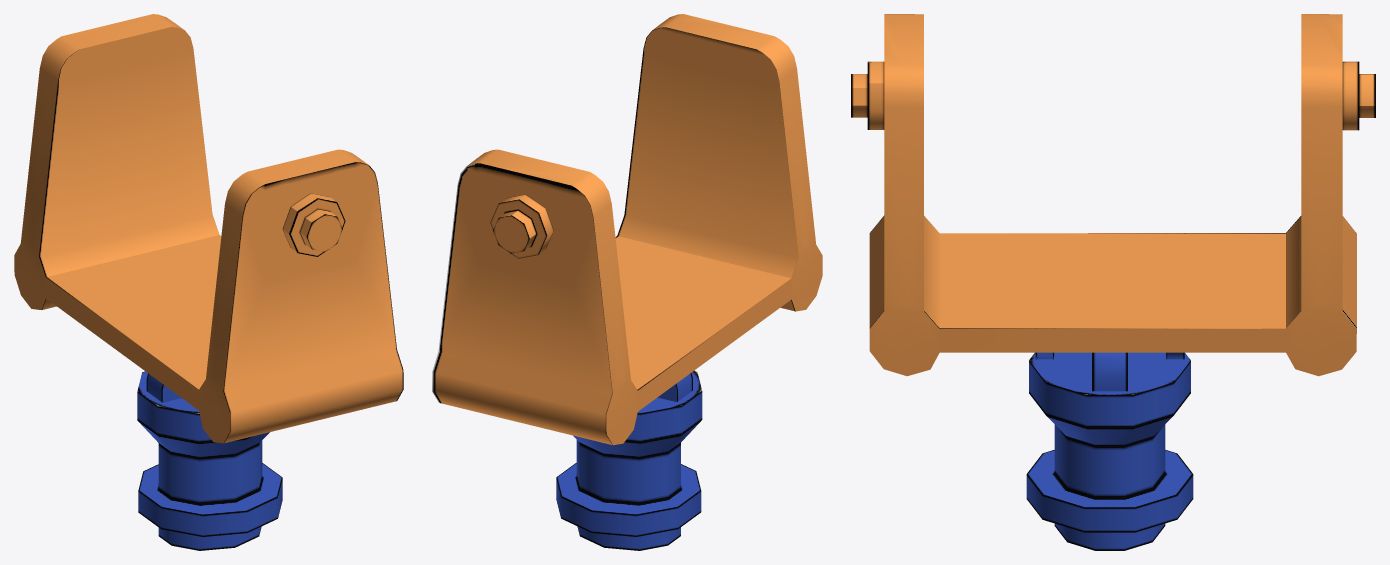
Rendered from FERNMinigunHolderPivot.fbx.
The picture shows the model from 3 angles, left to right: view 1: azimuth 30°, elevation 25°; view 2: azimuth 150°, elevation 25°; view 3: azimuth 270°, elevation 25°; orthographic projection. The views are drawn at different scales.
Visible parts, largest first — view 1: FERNMinigunHolder; view 2: FERNMinigunHolder; view 3: FERNMinigunHolder.
Boxes of the visible parts, <box> form: FERNMinigunHolder: <box>14,14,403,550</box>; FERNMinigunHolder: <box>432,14,822,550</box>; FERNMinigunHolder: <box>851,14,1375,550</box>.
Bounding box in the file's own units: 6.76 × 15.98 × 15.64.
